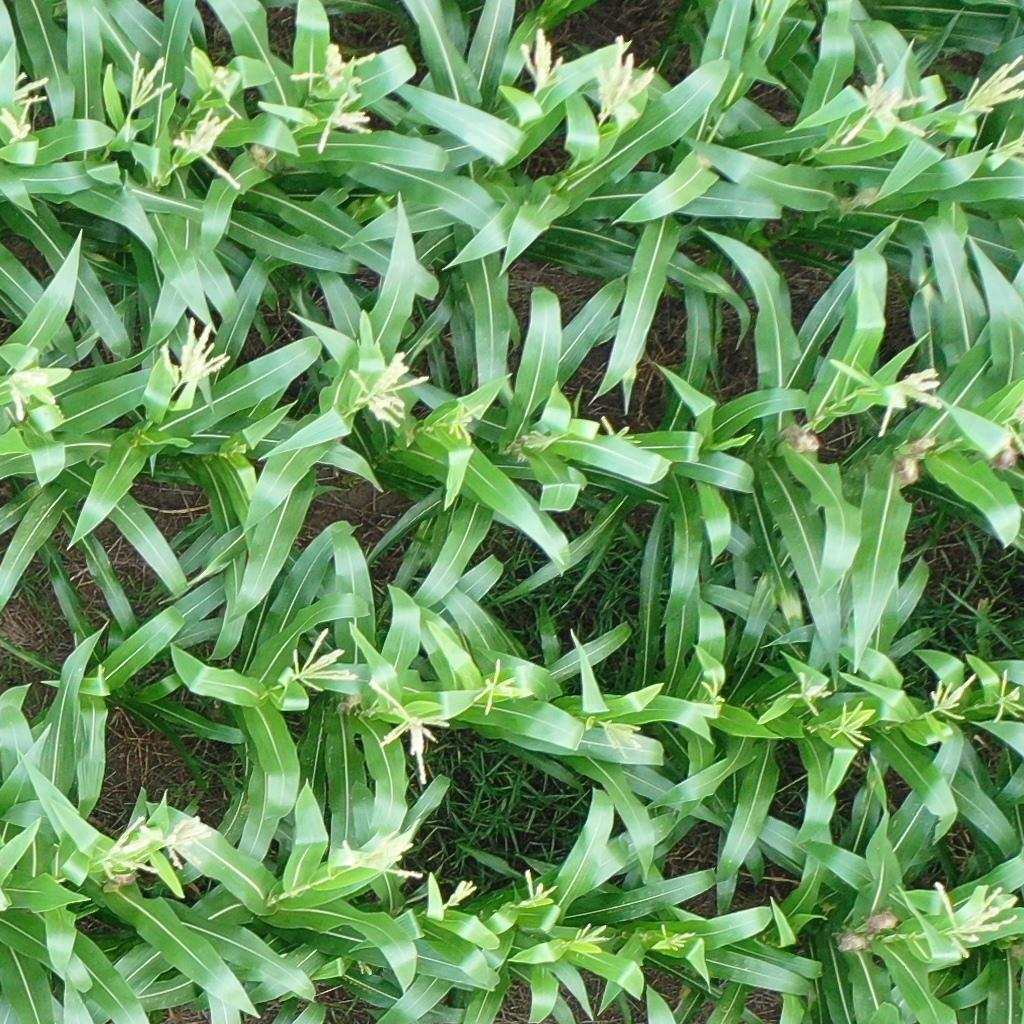Tassel: (368, 678, 454, 787), (839, 61, 936, 150), (176, 108, 253, 193), (347, 348, 426, 430), (932, 879, 1019, 951), (592, 35, 657, 127), (334, 820, 428, 882), (872, 366, 948, 439), (158, 317, 232, 389), (284, 628, 361, 696), (141, 804, 213, 870), (123, 50, 172, 145), (313, 89, 381, 156), (94, 814, 158, 883), (289, 42, 379, 88), (956, 55, 1024, 115), (5, 357, 55, 423), (511, 26, 561, 91), (926, 670, 978, 727), (473, 658, 521, 715), (595, 711, 649, 760), (832, 700, 877, 752), (984, 668, 1024, 726), (785, 672, 834, 717), (446, 399, 488, 450), (511, 420, 574, 454), (1, 97, 37, 142), (569, 915, 614, 951), (441, 873, 480, 914), (7, 71, 51, 106), (196, 54, 230, 98), (698, 671, 730, 717), (522, 868, 559, 907), (990, 129, 1024, 163), (654, 924, 695, 952), (1002, 401, 1024, 453)
